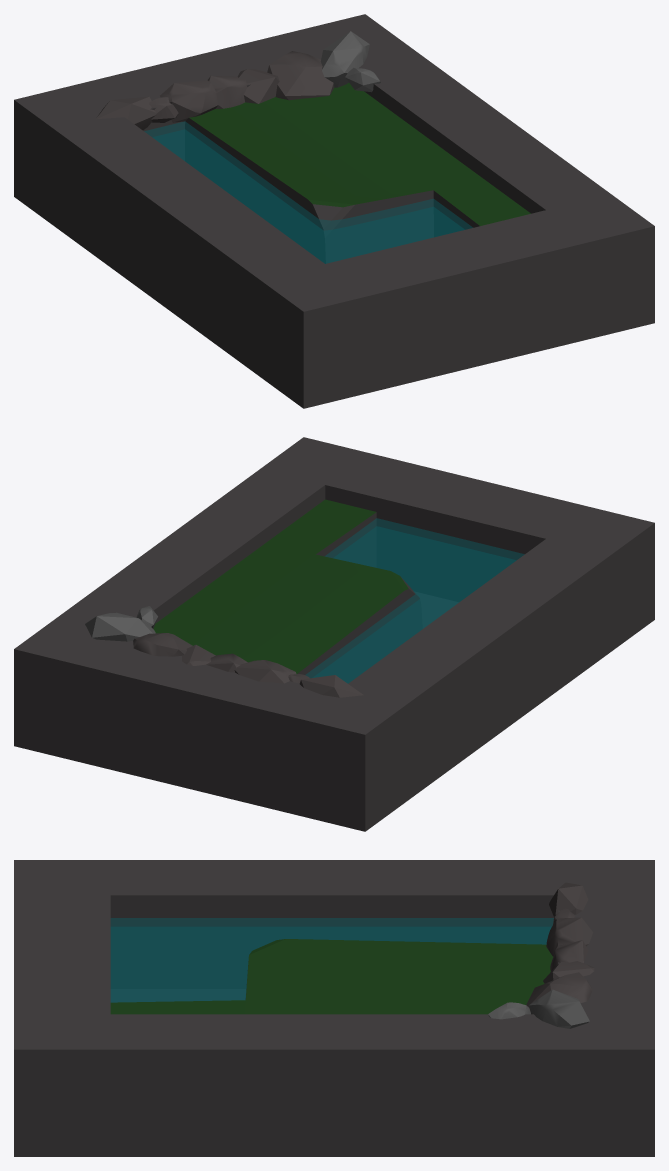
File: land.fbx
3 renders of one model, top to bottom at view 1: azimuth 30°, elevation 25°; view 2: azimuth 150°, elevation 25°; view 3: azimuth 270°, elevation 25°, orthographic. The views are drawn at different scales.
Visible parts, largest first — view 1: pasted__pCube1; view 2: pasted__pCube1; view 3: pasted__pCube1.
Boxes of the visible parts, x1,y1,x2,y2 form: pasted__pCube1: (14,14,654,408); pasted__pCube1: (14,437,654,831); pasted__pCube1: (14,860,654,1156).
Size of the model in its own units: 19.25 by 6.12 by 27.5.
